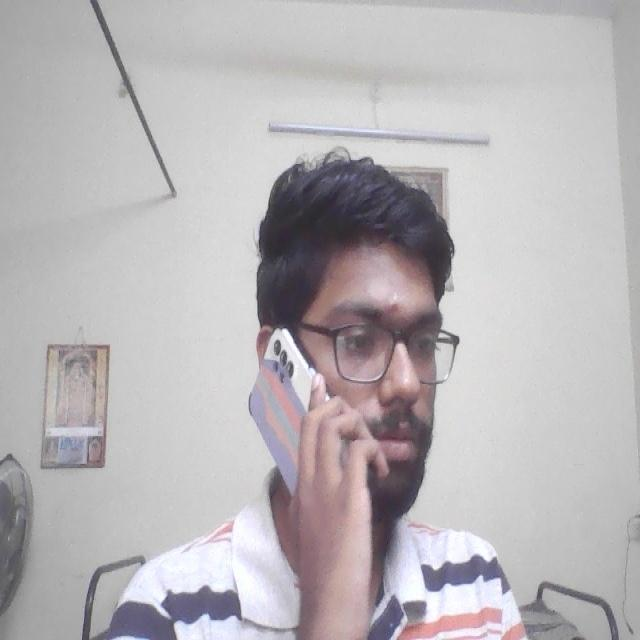Mobile: (222, 325, 325, 494)
